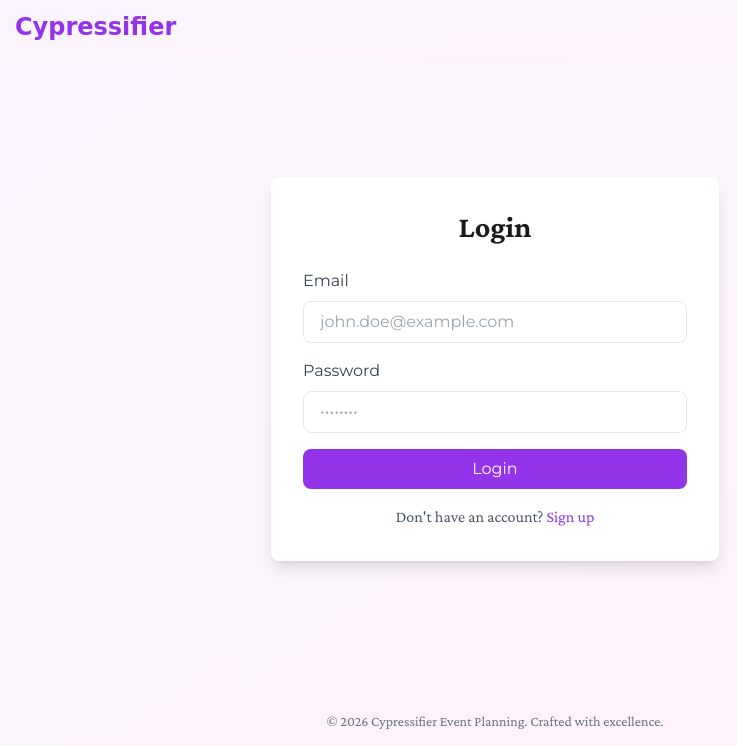
Admin Experience Flow › Admin Authentication › should error with no email
The image size is (737, 746).
expect the field with test id "login-email-input" is shown: met, box [303, 301, 687, 343]
Type "admin123" into the password field with test id "login-password-input" at (495, 412), box [303, 391, 687, 433]
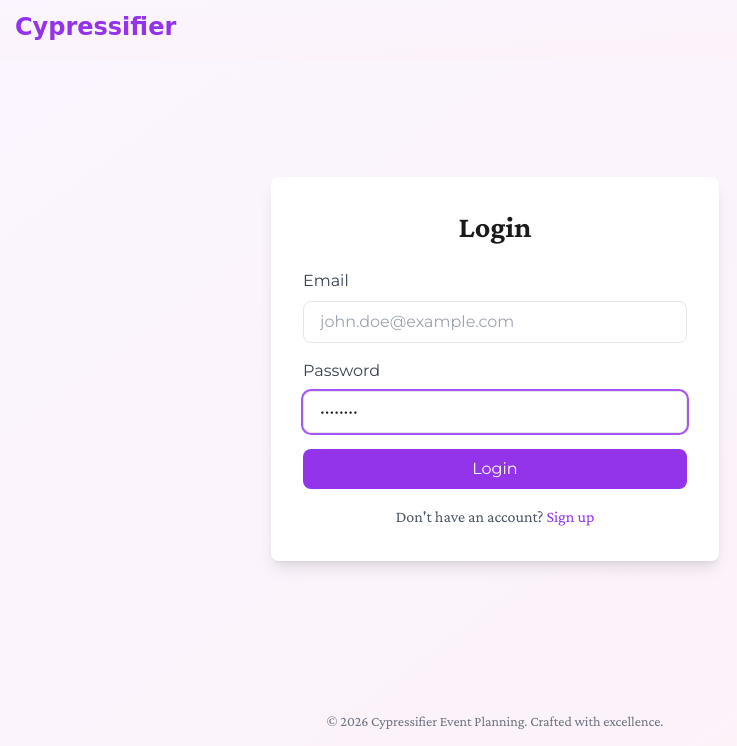
Submit the form, box [303, 269, 687, 489]
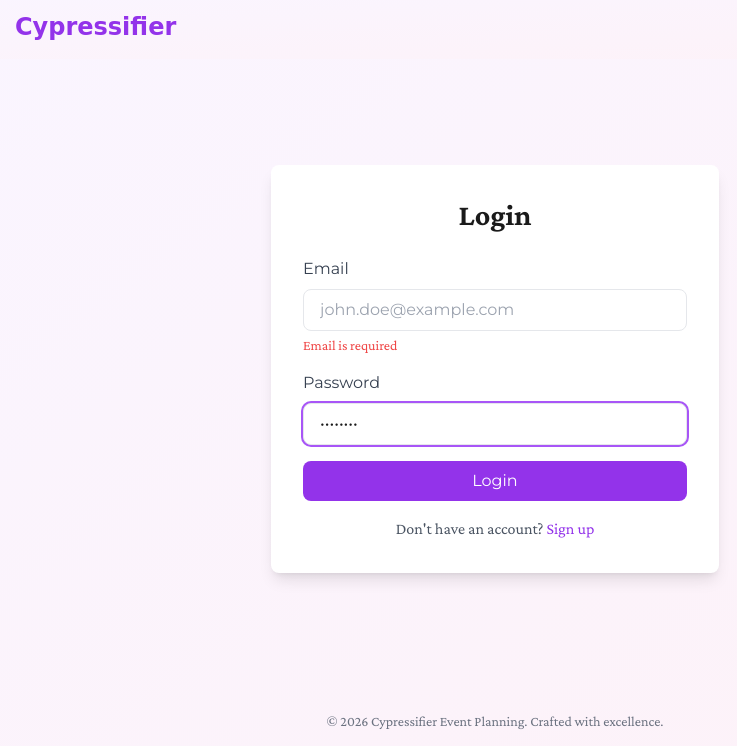
expect the text "Email is required" is shown: met, box [303, 337, 397, 353]
